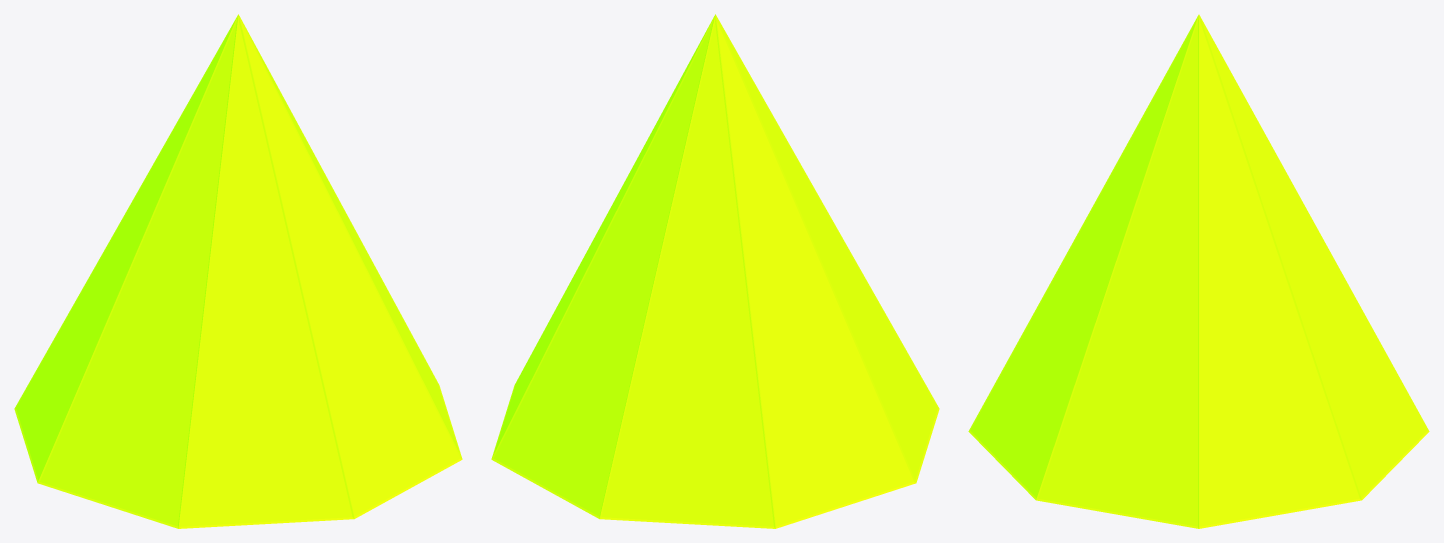
Rendered from Level Two Green Spike.fbx.
3 renders of one model, left to right at view 1: azimuth 30°, elevation 25°; view 2: azimuth 150°, elevation 25°; view 3: azimuth 270°, elevation 25°, orthographic.
Visible parts, largest first — view 1: Cone; view 2: Cone; view 3: Cone.
Part boxes in pixels (x1,y1,x2,y2): Cone: (14, 14, 462, 528); Cone: (491, 14, 939, 528); Cone: (968, 14, 1429, 528).
Bounding box in the file's own units: 201 × 201 × 201.
